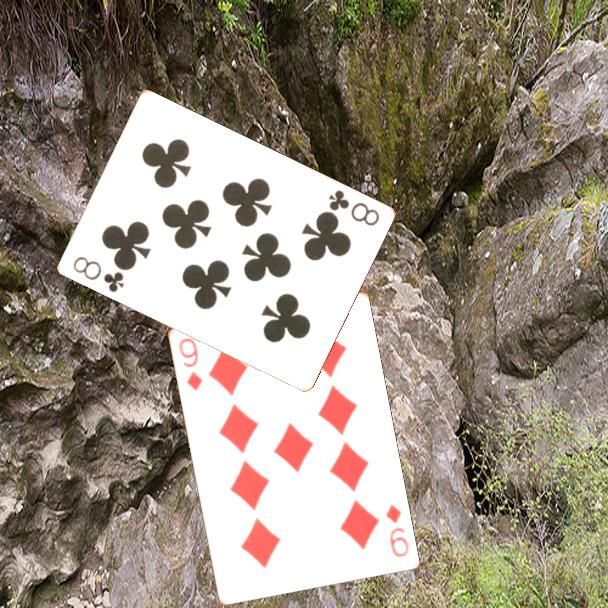c08: (69, 253, 127, 296), (324, 186, 382, 229)
d09: (175, 334, 205, 394), (382, 500, 411, 560)
